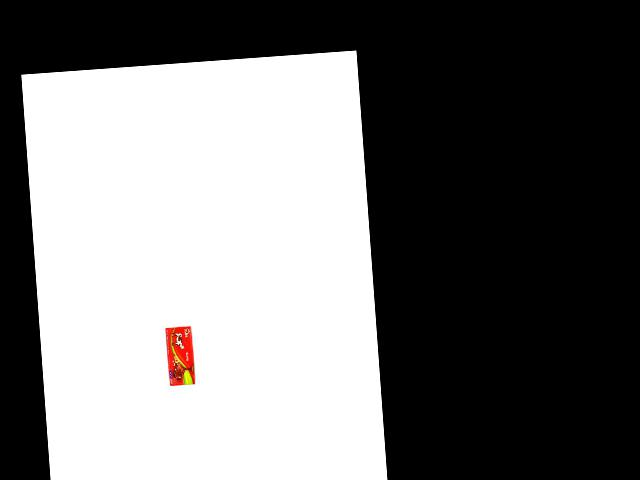chocolate: (159, 322, 197, 387)
